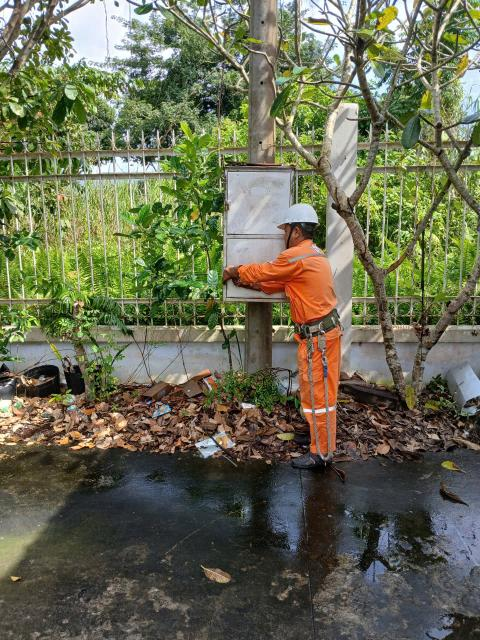gloves: (216, 264, 248, 286)
harness: (287, 306, 344, 348)
helmet: (273, 200, 324, 232)
shoes: (293, 446, 331, 469)
